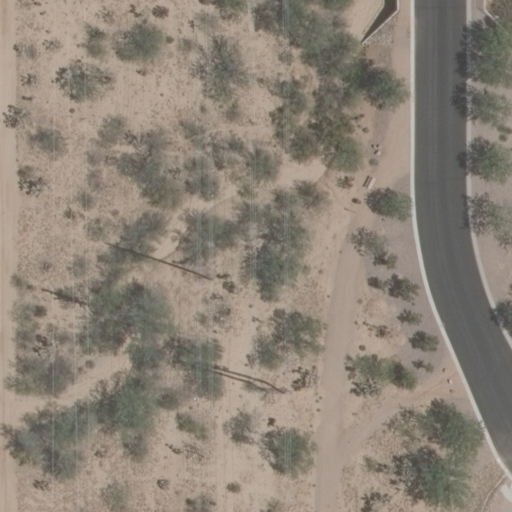DT: (194, 264, 228, 290), (248, 375, 287, 392)
